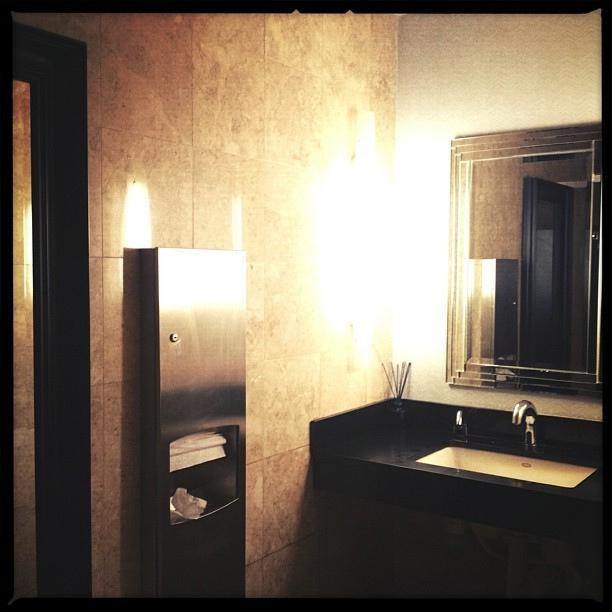Lavamanos: (414, 398, 599, 497)
